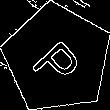P_NE: (27, 28, 88, 89)
